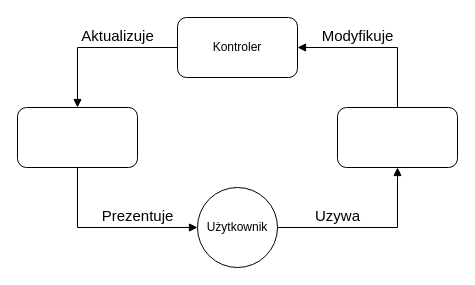
Image size: 475x285. Some labels were removed from this diagram. The shapes that lost their labels are listed below. From the top down, each one's box as (x1, y1, x2, y2) in pixels, then its label:
(16, 106, 138, 168): Widok
(336, 106, 458, 168): Model
